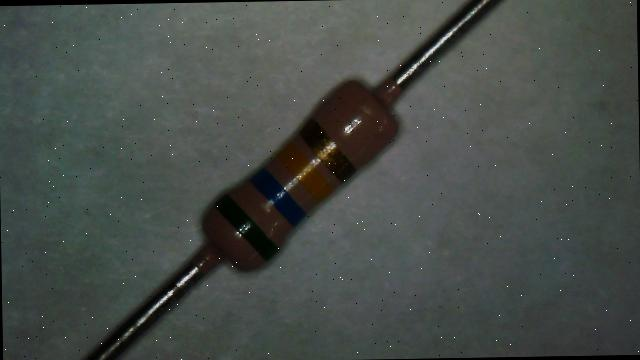blue: (250, 168, 306, 227)
gold: (300, 118, 354, 182)
green: (214, 193, 278, 260)
resistor: (156, 45, 433, 305)
yellow: (276, 141, 330, 202)
